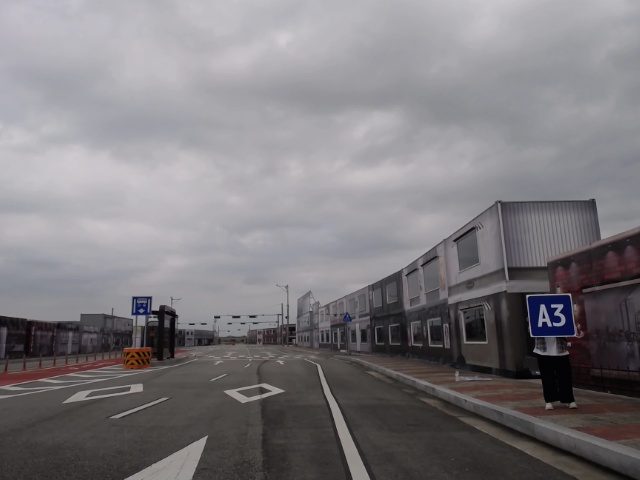delivery_a3: (527, 294, 576, 337)
